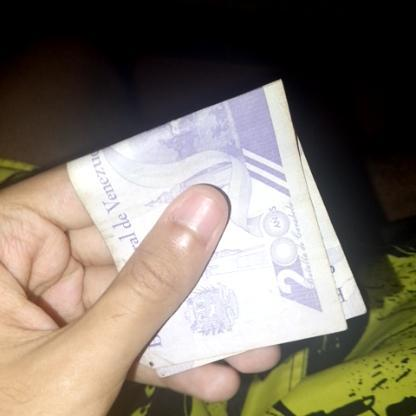ten-back-vef: (60, 76, 352, 398)
